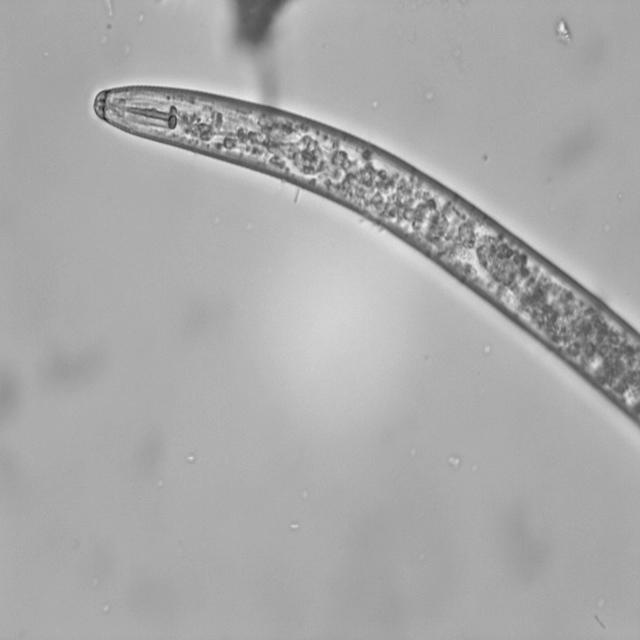Helicotylenchus: (85, 78, 640, 441)
